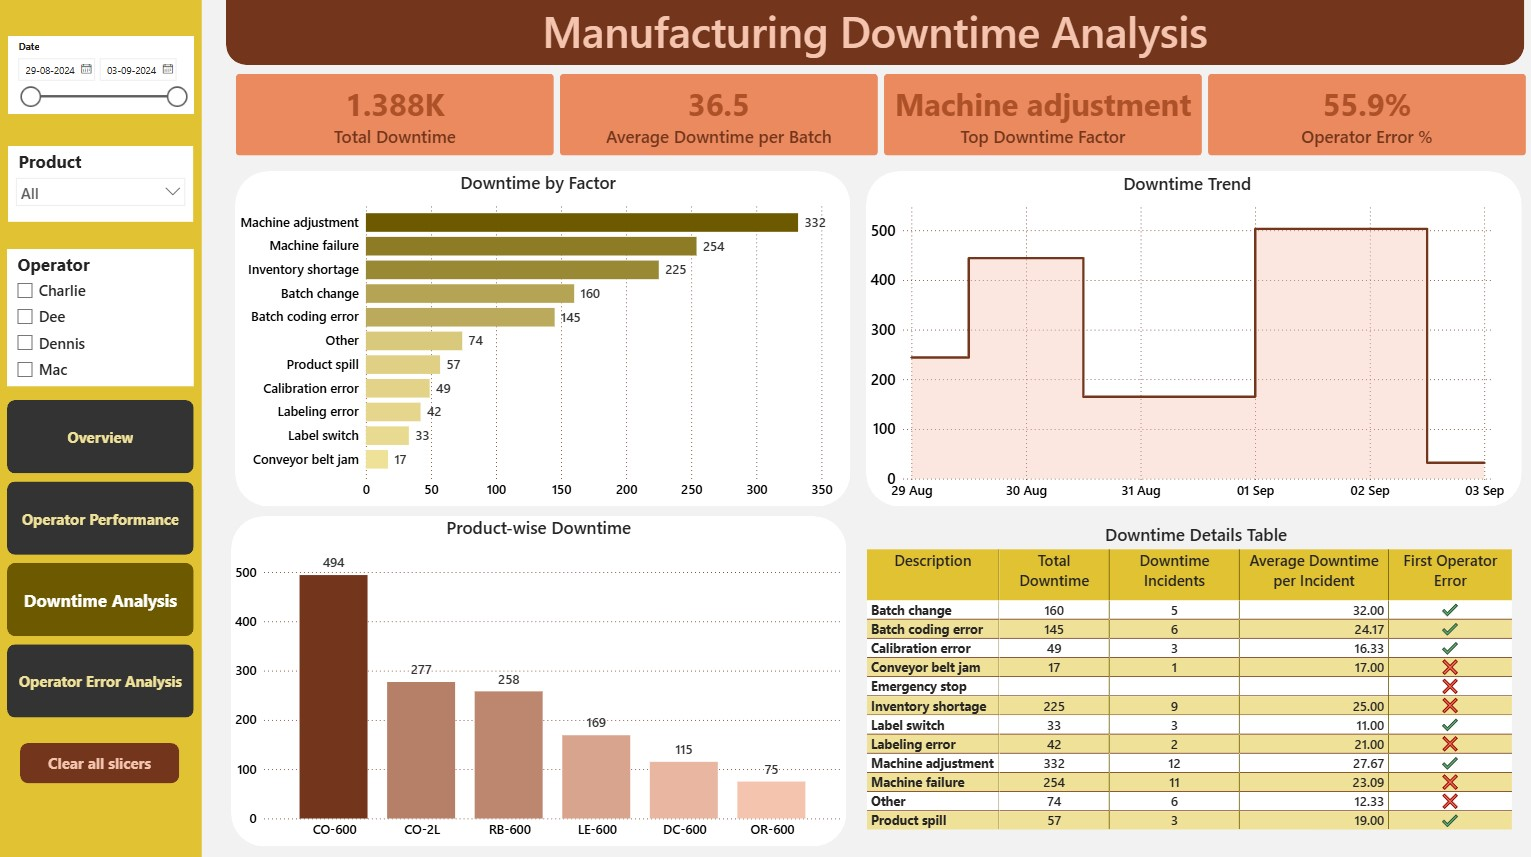

The dashboard page shown, as its layout file describes it:
{"tool":"powerbi","page":{"name":"Downtime Analysis","canvas":[1920,1080],"ordinal":2},"visuals":[{"type":"shape","box":[284.6,0,1626.7,83.8],"z":0,"group":"g1"},{"type":"shape","box":[1086.5,216.4,821.6,420.5],"z":0,"group":"g3"},{"type":"shape","box":[296.3,217.4,771.1,420.5],"z":0,"group":"g2"},{"type":"shape","box":[291.1,649.5,771.1,414],"z":0,"group":"g4"},{"type":"textbox","box":[284.6,0,1626.7,83.8],"z":1000,"group":"g1"},{"type":"cardVisual","fields":{"Data":[" Measures.Total Downtime"," Measures.Average Downtime per Batch"," Measures.Top Downtime Factor"," Measures.Operator Error %"]},"box":[296.6,95.8,1617.3,102.4],"z":1000},{"type":"lineChart","title":"Downtime Trend","fields":{"Y":[" Measures.Total Downtime"],"Category":["Line productivity.Date.Variation.Date Hierarchy.Year","Line productivity.Date.Variation.Date Hierarchy.Quarter","Line productivity.Date.Variation.Date Hierarchy.Month","Line productivity.Date.Variation.Date Hierarchy.Day"]},"box":[1086.5,217,804.7,419.2],"z":2000,"group":"g3"},{"type":"clusteredBarChart","title":"Downtime by Factor","fields":{"Y":[" Measures.Total Downtime"],"Category":["Downtime factors.Description"]},"box":[296.3,217.4,759.5,419.2],"z":2000,"group":"g2"},{"type":"clusteredColumnChart","title":"Product-wise Downtime","fields":{"Y":[" Measures.Total Downtime"],"Category":["Line productivity.Product"]},"box":[291.1,649.5,771.1,414],"z":2000,"group":"g4"},{"type":"pivotTable","title":"Downtime Details Table","fields":{"Rows":["Downtime factors.Description"],"Values":[" Measures.Total Downtime"," Measures.Downtime Incidents"," Measures.Average Downtime per Incident","Min(Downtime factors.Operator Error)"]},"box":[1068,658.4,844.6,404.3],"z":3000},{"type":"shape","box":[0,0,254,1081.3],"z":4000},{"type":"slicer","fields":{"Values":["Line productivity.Date"]},"box":[11.2,47.7,233,96.8],"z":5000},{"type":"slicer","fields":{"Values":["Line productivity.Product"]},"box":[11.2,185.3,231.6,95.4],"z":6000},{"type":"slicer","fields":{"Values":["Line productivity.Operator"]},"box":[10.6,313.9,234.1,171.6],"z":7000},{"type":"pageNavigator","box":[10.6,504.1,234.1,399],"z":8000},{"type":"group","id":"g1","title":"Group 1","box":[284.6,0,1626.7,83.8],"z":9000},{"type":"actionButton","box":[26.6,933.7,199.5,50.5],"z":10000},{"type":"group","id":"g2","title":"Group 2","box":[296.3,217.4,771.1,420.5],"z":11000},{"type":"group","id":"g3","title":"Group 3","box":[1086.5,216.4,821.6,420.5],"z":12000},{"type":"group","id":"g4","title":"Group 4","box":[291.1,649.5,771.1,414],"z":12001}]}

Visuals, with their boxes in screenshot pixels (x1, y1, x2, y2), scaled from the page's 1920x1080 canvas onto the 1531x857 screenshot:
shape: (x1=227, y1=0, x2=1524, y2=66)
shape: (x1=866, y1=172, x2=1522, y2=505)
shape: (x1=236, y1=173, x2=851, y2=506)
shape: (x1=232, y1=515, x2=847, y2=844)
textbox: (x1=227, y1=0, x2=1524, y2=66)
cardVisual -  Measures.Total Downtime x  Measures.Average Downtime per Batch: (x1=237, y1=76, x2=1526, y2=157)
"Downtime Trend" lineChart: (x1=866, y1=172, x2=1508, y2=505)
"Downtime by Factor" clusteredBarChart: (x1=236, y1=173, x2=842, y2=505)
"Product-wise Downtime" clusteredColumnChart: (x1=232, y1=515, x2=847, y2=844)
"Downtime Details Table" pivotTable: (x1=852, y1=522, x2=1525, y2=843)
shape: (x1=0, y1=0, x2=203, y2=856)
slicer - Line productivity.Date: (x1=9, y1=38, x2=195, y2=115)
slicer - Line productivity.Product: (x1=9, y1=147, x2=194, y2=223)
slicer - Line productivity.Operator: (x1=8, y1=249, x2=195, y2=385)
pageNavigator: (x1=8, y1=400, x2=195, y2=717)
"Group 1" group: (x1=227, y1=0, x2=1524, y2=66)
actionButton: (x1=21, y1=741, x2=180, y2=781)
"Group 2" group: (x1=236, y1=173, x2=851, y2=506)
"Group 3" group: (x1=866, y1=172, x2=1522, y2=505)
"Group 4" group: (x1=232, y1=515, x2=847, y2=844)
